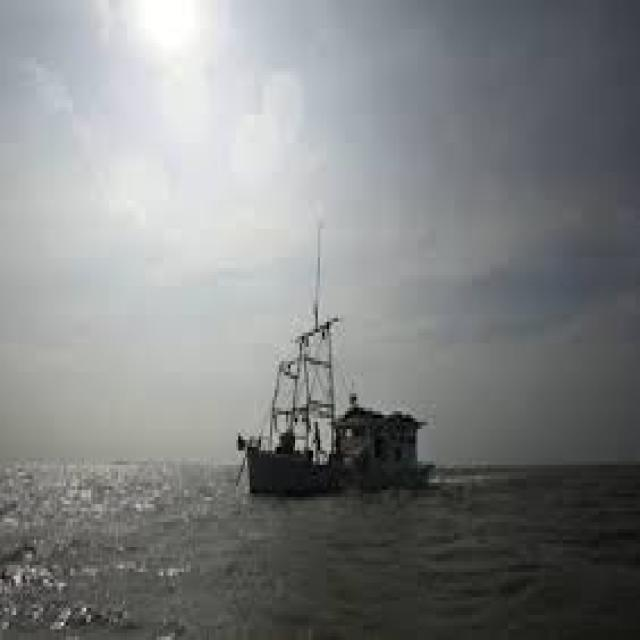fishing boat: (232, 228, 434, 484)
